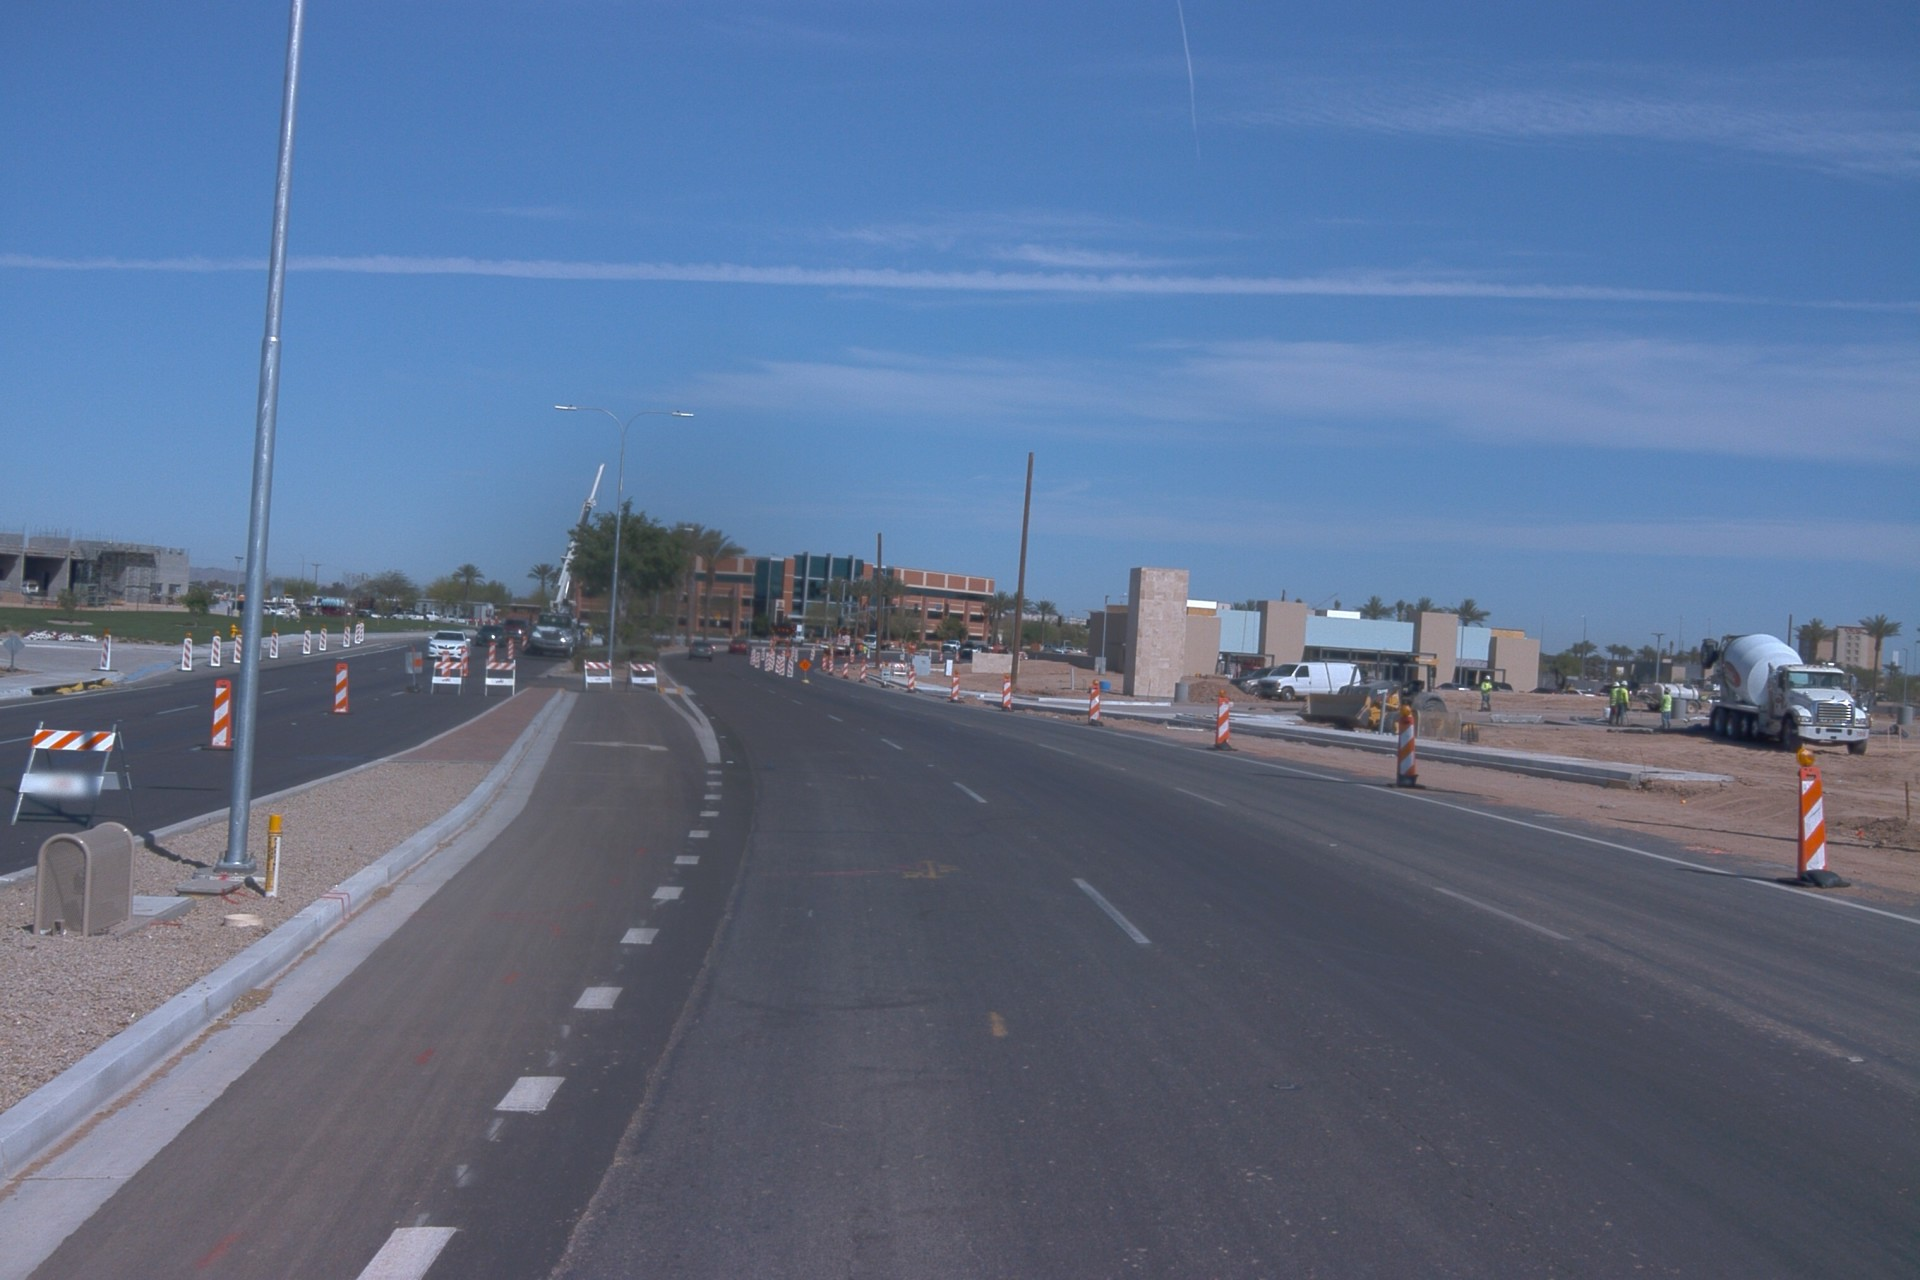TYPE_PEDESTRIAN: (1615, 680, 1631, 728), (1607, 681, 1622, 728), (1657, 687, 1672, 731), (1480, 675, 1494, 712), (1861, 707, 1875, 729), (864, 644, 871, 659), (584, 627, 590, 643), (585, 627, 591, 640)
TYPE_VEHICLE: (522, 458, 612, 659), (1254, 662, 1362, 706), (1631, 680, 1702, 715), (765, 616, 800, 670), (812, 628, 864, 660), (1228, 670, 1277, 703), (427, 626, 472, 658), (958, 638, 1000, 664), (860, 632, 901, 657), (498, 615, 530, 645), (475, 624, 509, 649), (317, 603, 357, 621), (687, 639, 716, 663), (940, 636, 971, 657), (1597, 683, 1634, 700), (727, 637, 755, 658), (776, 631, 806, 650), (1474, 680, 1515, 693), (390, 607, 424, 621), (276, 603, 302, 621), (1526, 685, 1565, 696), (21, 577, 41, 598), (228, 597, 246, 620), (297, 604, 321, 620), (262, 602, 286, 618), (1562, 688, 1598, 697), (1434, 682, 1470, 691), (1705, 694, 1725, 706)
